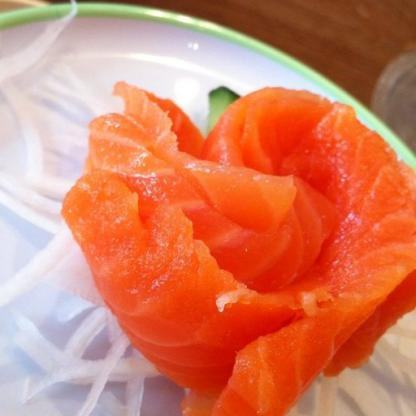salmon: (72, 85, 415, 415)
